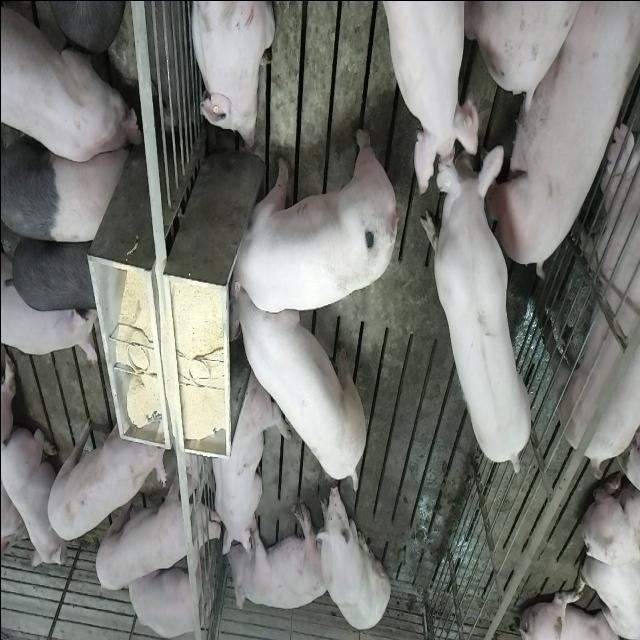Feeding: (220, 124, 394, 312), (230, 283, 368, 497)
Lateral_lying: (488, 0, 637, 276), (224, 500, 330, 612)
Sitting: (312, 482, 390, 632)
Standing: (419, 138, 533, 474), (541, 110, 640, 468), (1, 0, 141, 164), (378, 1, 484, 194), (42, 409, 166, 542), (2, 126, 130, 245), (92, 478, 220, 594), (2, 226, 110, 316)
Sternal_lying: (208, 374, 284, 560), (187, 0, 274, 151), (1, 418, 64, 568), (126, 552, 206, 637)
